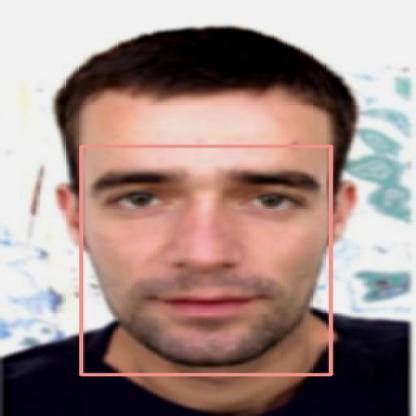without_mask: (81, 146, 330, 374)
